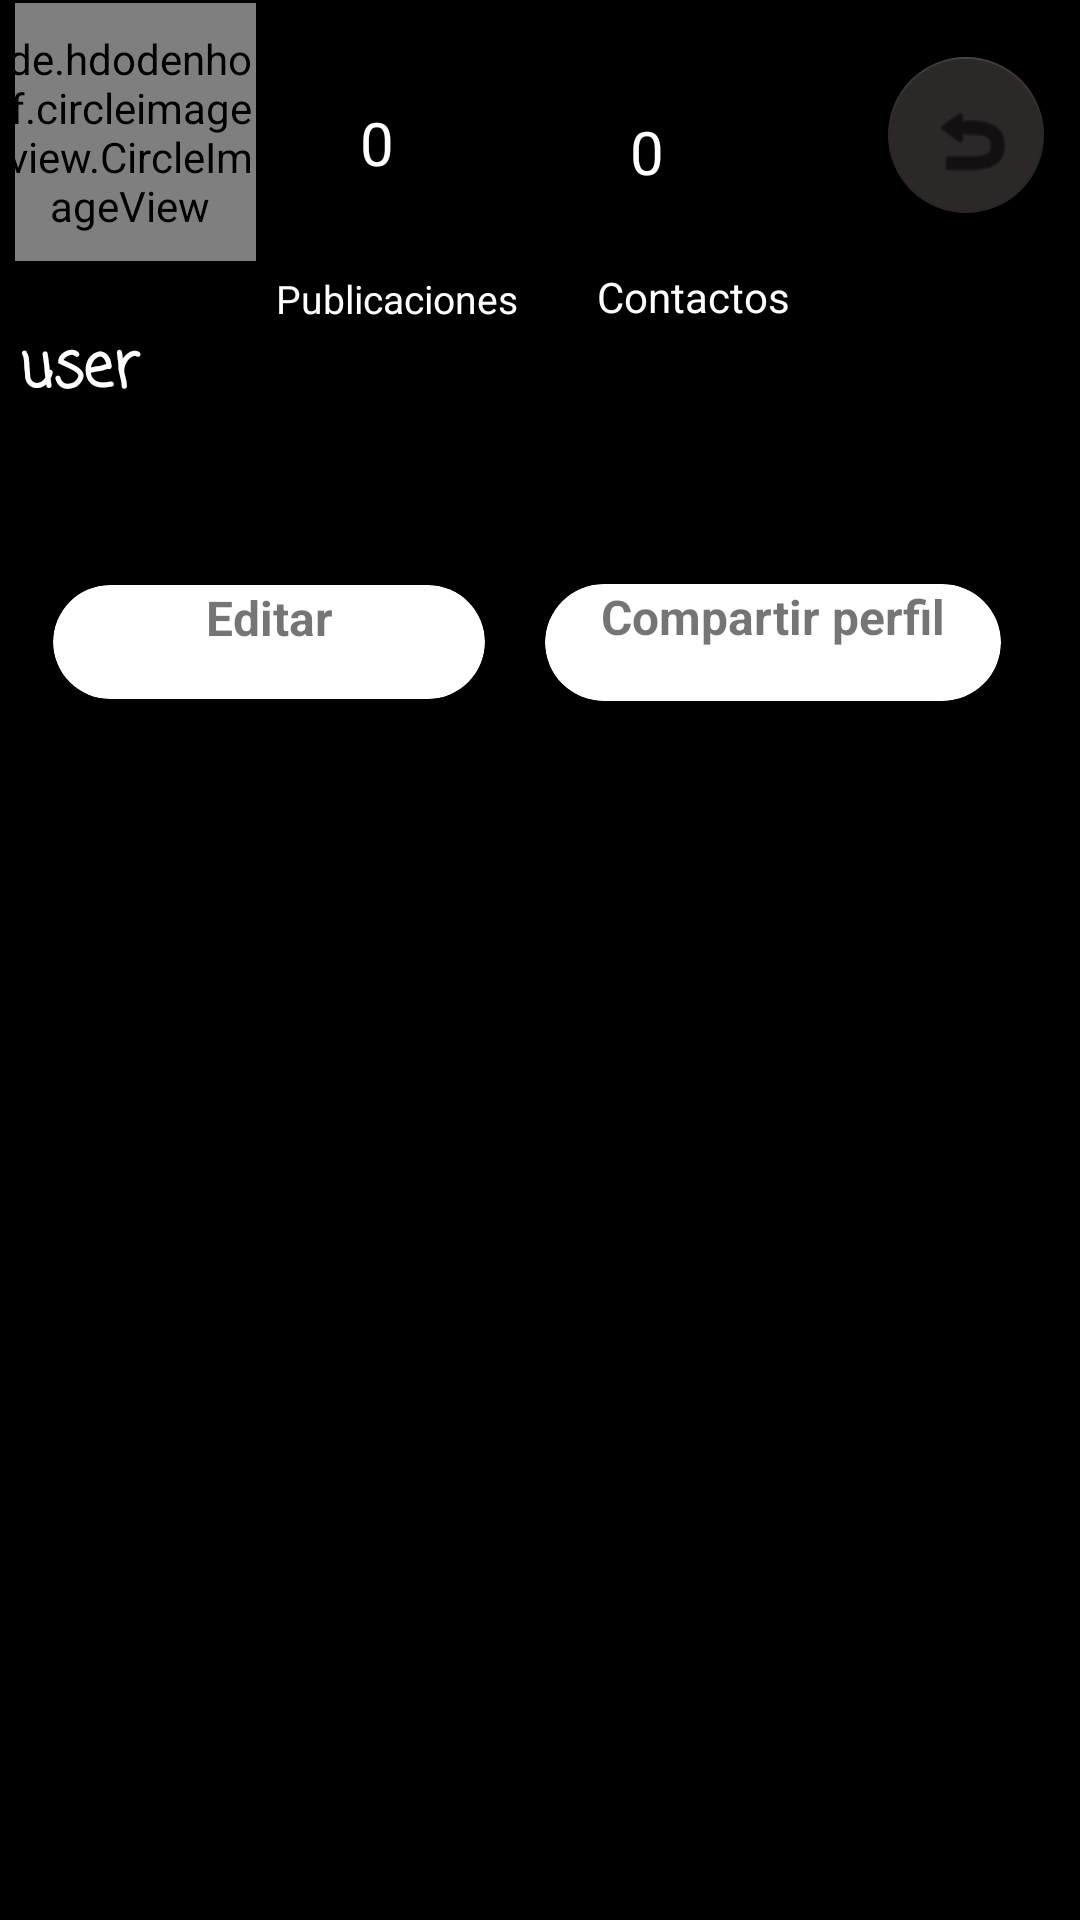

Locate icon controls on the screen. Image size 1080 x 1920, boxes as (x1, y1, x2, y2).
revert: (888, 57, 1044, 213)
